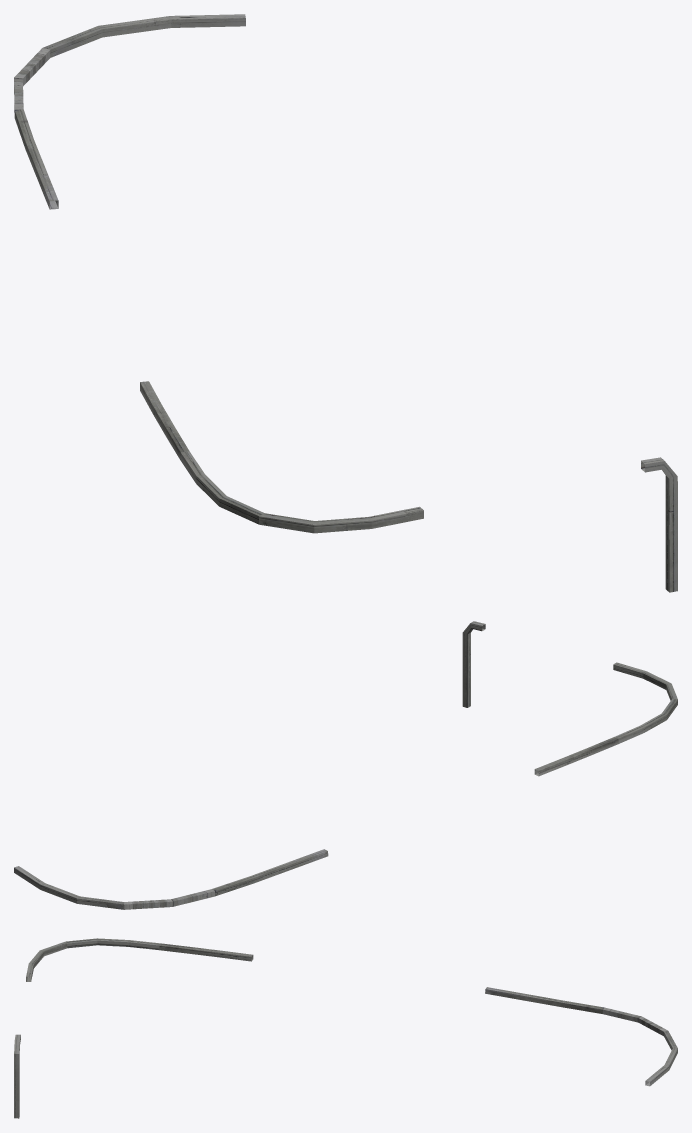
3 views of the same model, one above another, from view 1: azimuth 30°, elevation 25°; view 2: azimuth 150°, elevation 25°; view 3: azimuth 270°, elevation 25° (orthographic). The views are drawn at different scales.
Parts seen in each view (by area): view 1: 10.003; view 2: 10.003; view 3: 10.003.
Part boxes in pixels (x1=…): 10.003: x1=14, y1=14, x2=677, y2=592; 10.003: x1=14, y1=621, x2=677, y2=909; 10.003: x1=14, y1=938, x2=677, y2=1118.
Bounding box in the file's own units: 1591 × 392 × 3143.
